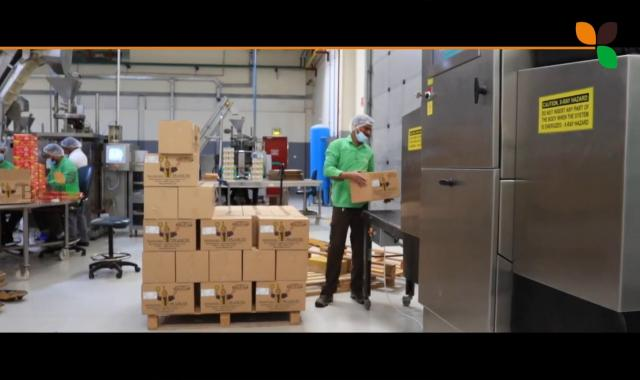hairnet: (347, 114, 380, 132), (42, 143, 64, 163), (61, 135, 85, 150)
